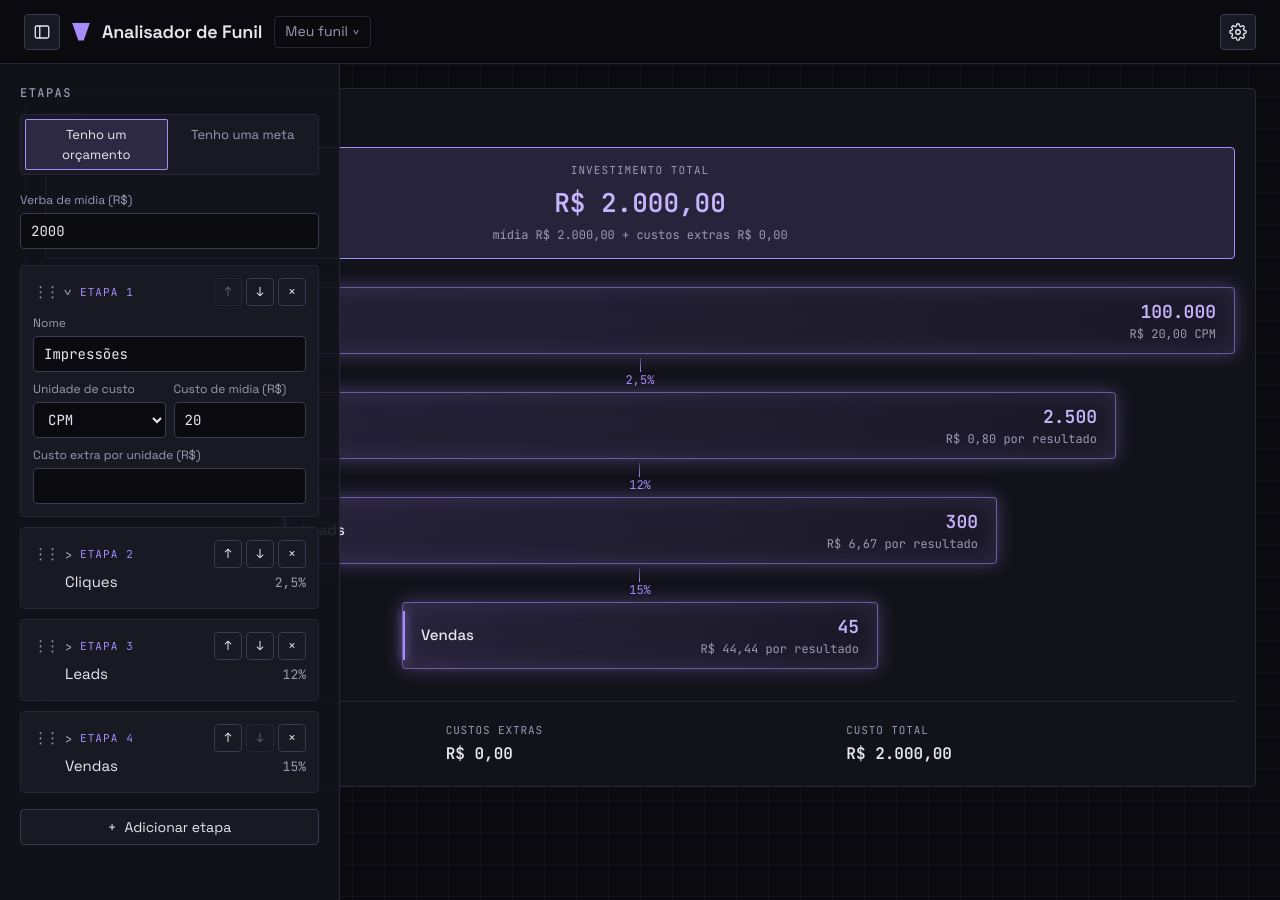
Scenario: modal de configurações › a engrenagem abre o modal com o título: o tema e, abaixo, o separador, com a vírgula marcada
Expected: the dialog "Configurações" is not shown
Click the button named "Configurações" at [1238, 32], box x1=1220 y1=14 x2=1256 y2=50
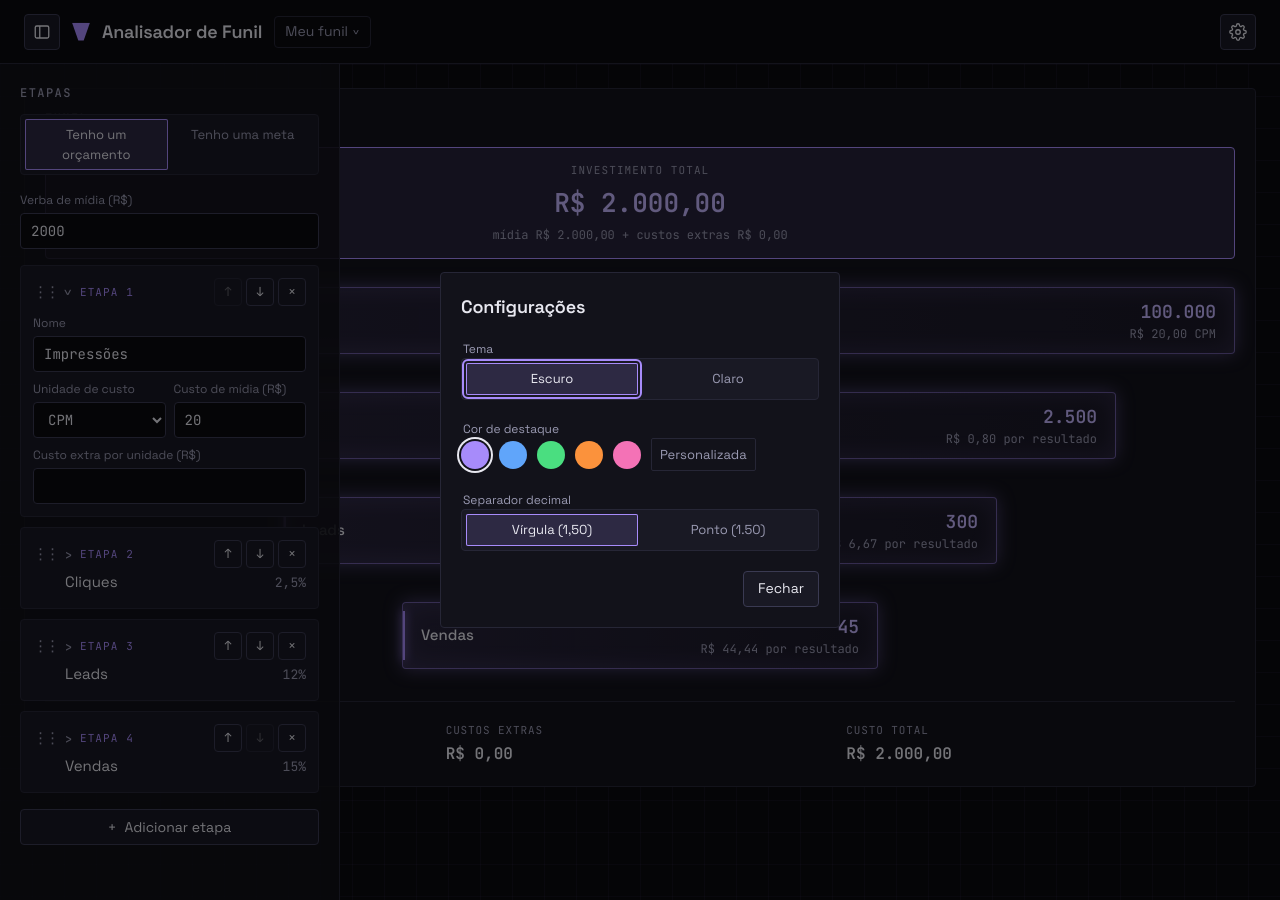
Expected: the 6th radio button labelled "Vírgula (1,50)" is checked, x1=466 y1=514 x2=638 y2=546
Expected: the 6th radio button labelled "Ponto (1.50)" is not checked, x1=691 y1=521 x2=765 y2=538
